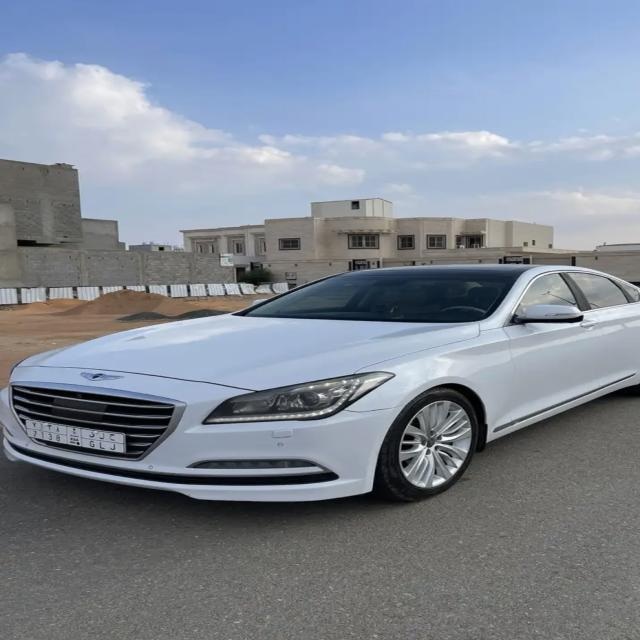license_plate: (26, 420, 125, 453)
